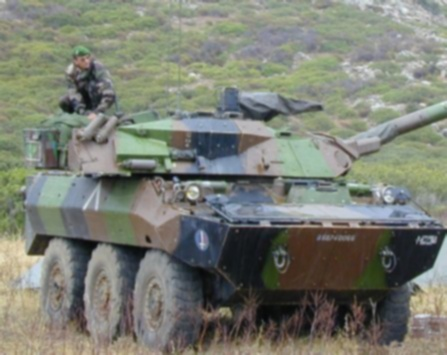license_plate: (316, 230, 359, 243)
